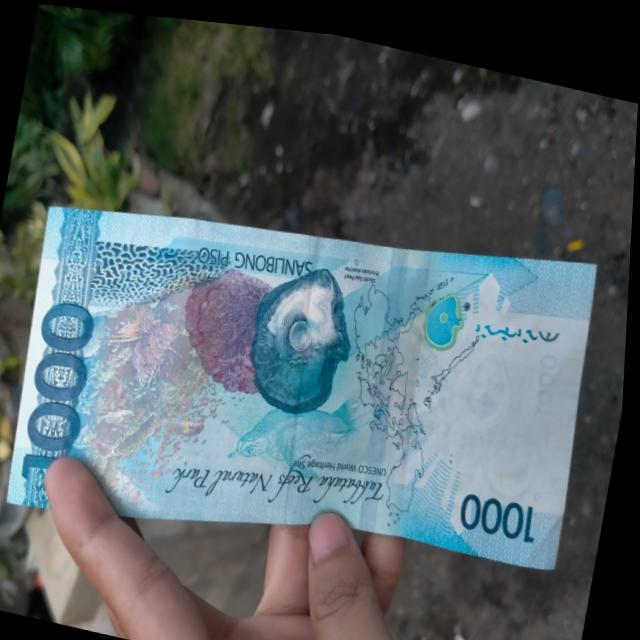see_through_mark: (474, 301, 563, 346)
value_watermark: (531, 339, 563, 411)
watermark: (441, 322, 559, 502)
